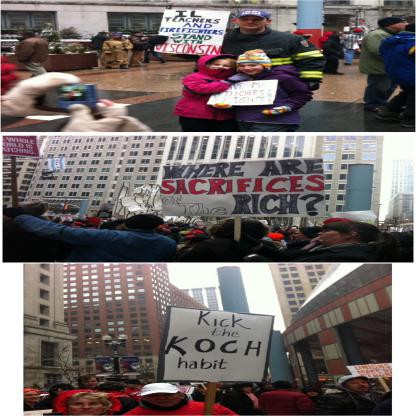face: (69, 399, 107, 416), (146, 392, 182, 408), (237, 15, 268, 30), (319, 229, 347, 244), (346, 379, 369, 393), (239, 63, 265, 75), (210, 62, 233, 74), (25, 393, 41, 402), (83, 380, 98, 389), (394, 22, 410, 30), (54, 388, 70, 396), (295, 232, 308, 241), (105, 365, 118, 372), (307, 390, 319, 397), (133, 365, 145, 372), (241, 387, 252, 393), (263, 384, 274, 390), (125, 384, 136, 389), (115, 36, 121, 39), (136, 33, 142, 36), (339, 33, 345, 36), (338, 37, 344, 40), (145, 37, 150, 40), (73, 224, 77, 227), (199, 227, 204, 229), (111, 34, 115, 36), (74, 221, 78, 223)
